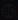Speed Limit -80-: (0, 1, 17, 19)
